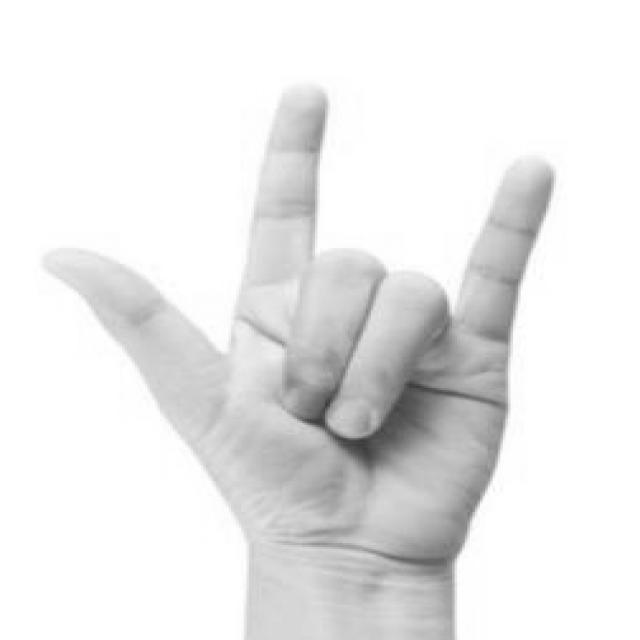i love you: (32, 73, 570, 589)
